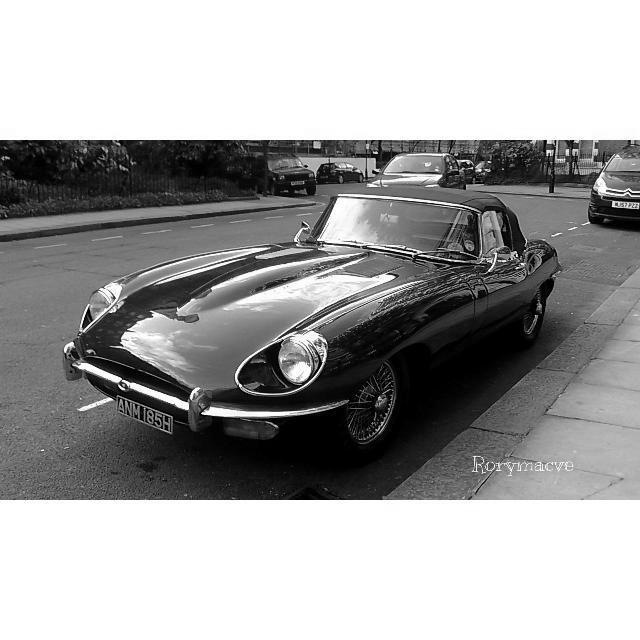doorouter-dent: (477, 232, 538, 334)
